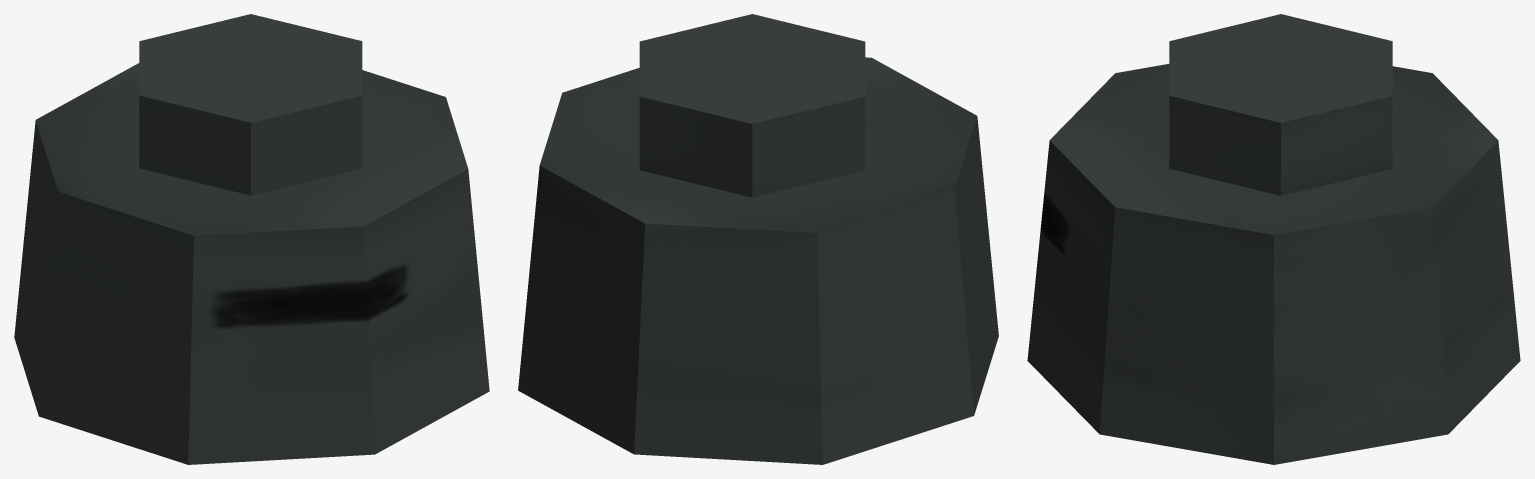
File: bunker_nva.fbx
The picture shows the model from 3 angles, left to right: view 1: azimuth 30°, elevation 25°; view 2: azimuth 150°, elevation 25°; view 3: azimuth 270°, elevation 25°; orthographic projection.
Visible parts, largest first — view 1: Cube.001; view 2: Cube.001; view 3: Cube.001.
Part boxes in pixels (<box>): Cube.001: <box>14,14,489,464</box>; Cube.001: <box>518,14,998,464</box>; Cube.001: <box>1027,14,1520,464</box>.
Size of the model in its own units: 382 by 251 by 382.
